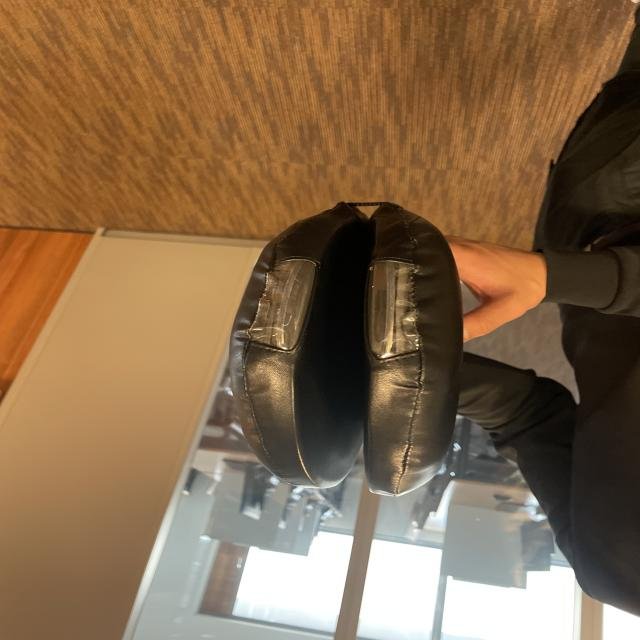paddle: (253, 208, 454, 489)
